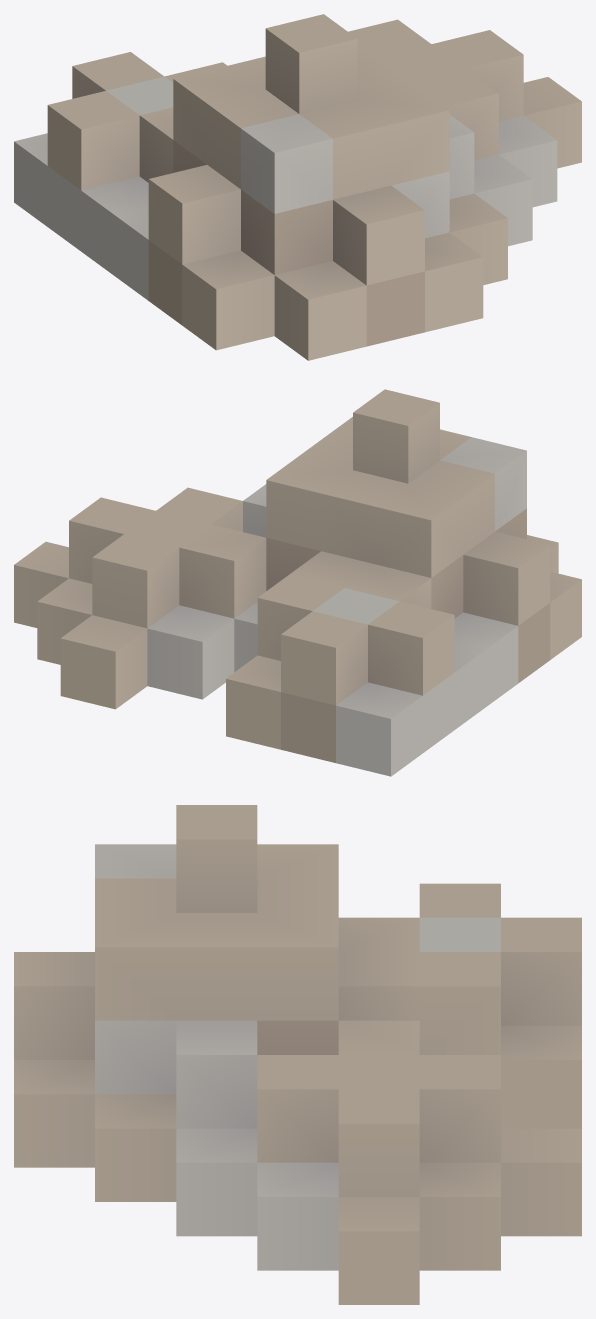
File: decor_outcrop_other.glb
3 views of the same model, one above another, from view 1: azimuth 30°, elevation 25°; view 2: azimuth 150°, elevation 25°; view 3: azimuth 270°, elevation 25° (orthographic). The views are drawn at different scales.
Visible parts, largest first — view 1: decor_outcrop_other; view 2: decor_outcrop_other; view 3: decor_outcrop_other.
Part boxes in pixels (x1,y1,x2,y2): decor_outcrop_other: (14,14,581,360); decor_outcrop_other: (14,389,581,776); decor_outcrop_other: (14,805,581,1304).
Size of the model in its own units: 1 by 0.5 by 0.875.
